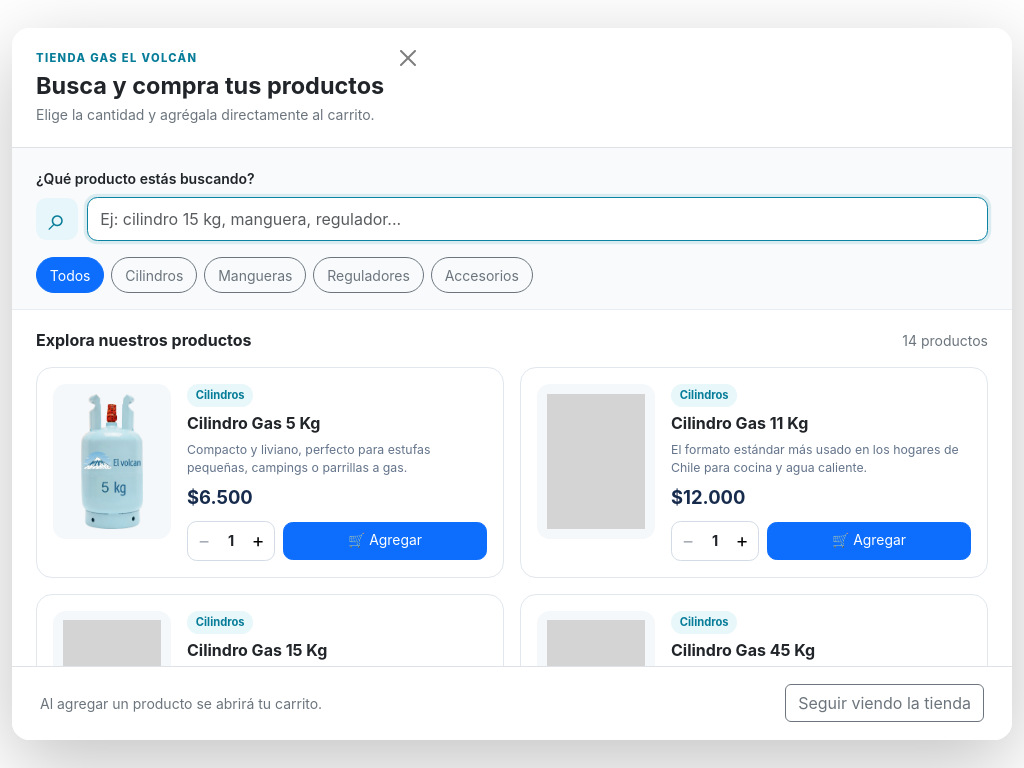
Test case: Gas El Volcan - pruebas unitarias › 13. SearchModal filtra por categoría y permite volver a ver todo
Step 1. Click the button "Reguladores" → (369, 275), box [314, 257, 424, 293]
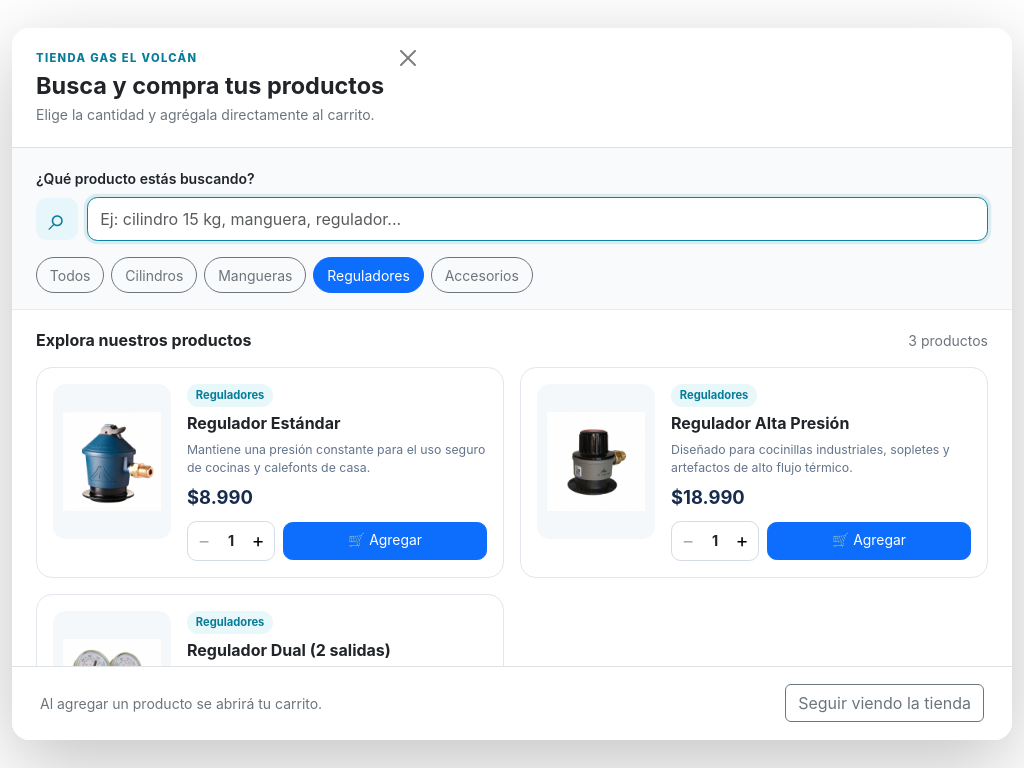
expect the number of elements with class "search-product-card" is 3: met
